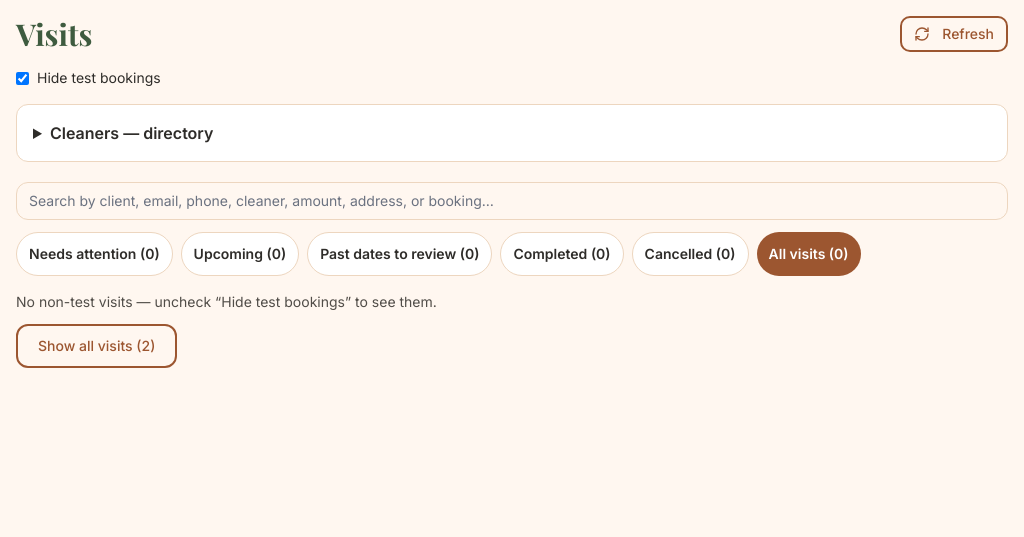
Scenario: owner login and visit switching › restores every loaded row when stored filters hide all visible results
Click the button "Needs attention (0)": click(94, 254) [16,232,173,276]
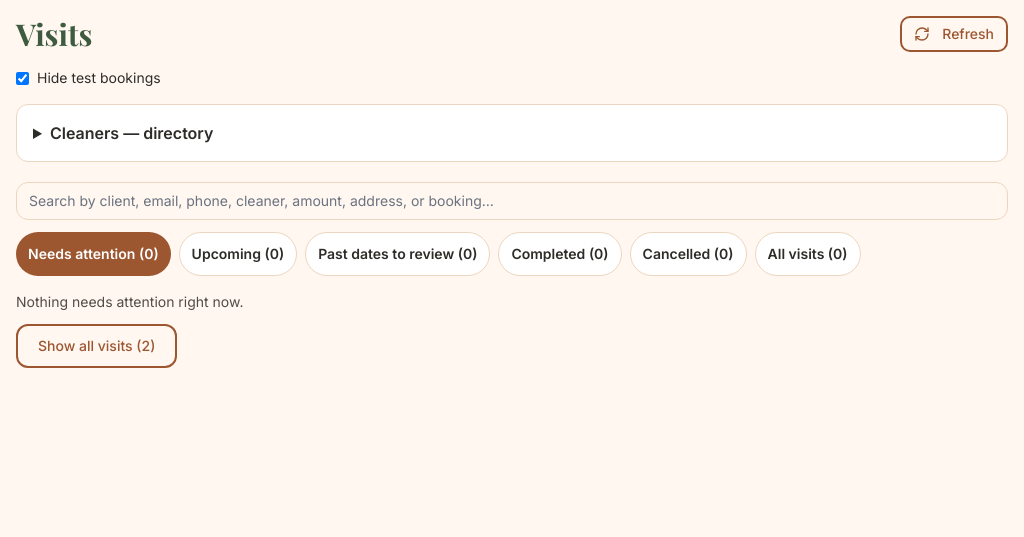
Click the button "Show all visits (2)": click(97, 346) [16,324,177,368]
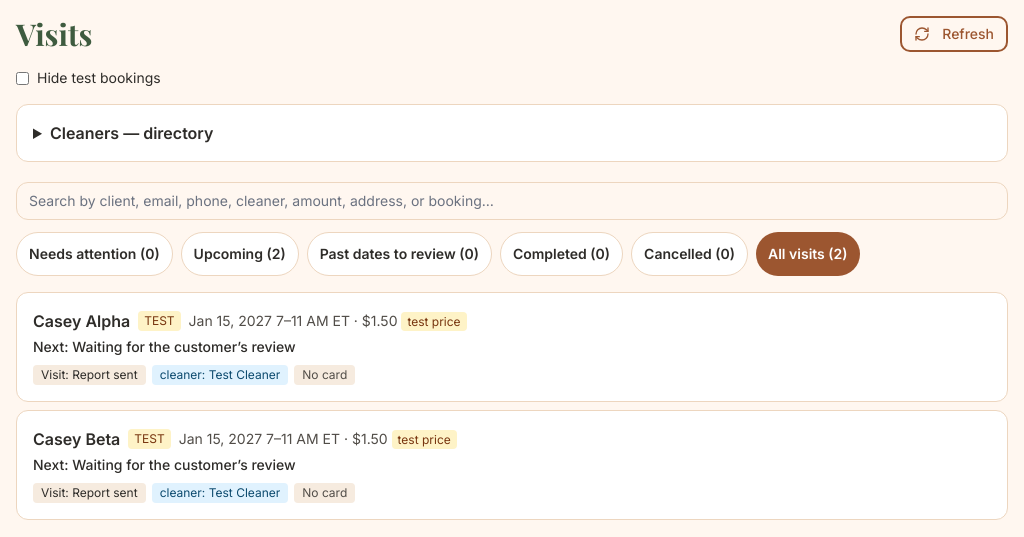
Check: the button "Casey Alpha" is shown, box [16,292,1008,402]
Check: the checkbox labelled "Hide test bookings" is not checked, box [16,72,29,84]
